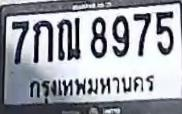5: (155, 10, 173, 55)
7: (132, 12, 150, 56), (11, 20, 29, 63)
8: (90, 16, 106, 57)
9: (111, 15, 129, 56)
A01: (32, 19, 52, 62)
A19: (57, 17, 80, 60)
BKK: (28, 71, 157, 104)
